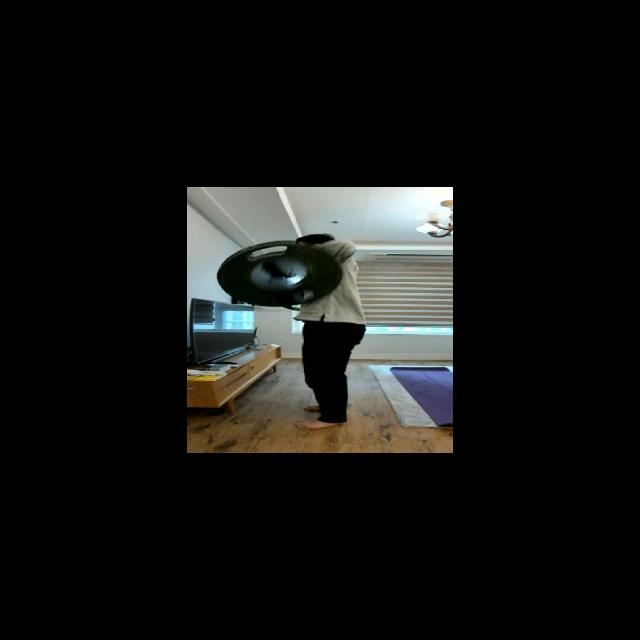barbell: (211, 236, 350, 311)
